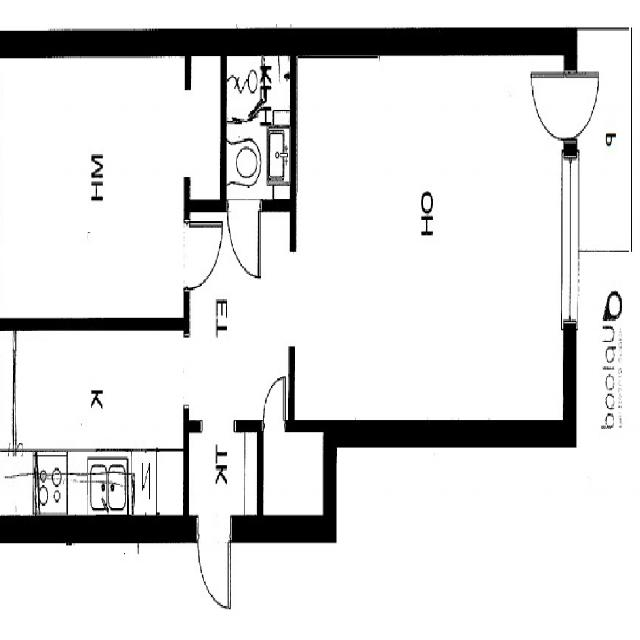door: (530, 71, 578, 141), (198, 518, 232, 615), (564, 71, 611, 141), (184, 223, 223, 289), (229, 199, 261, 279), (265, 375, 287, 432)
